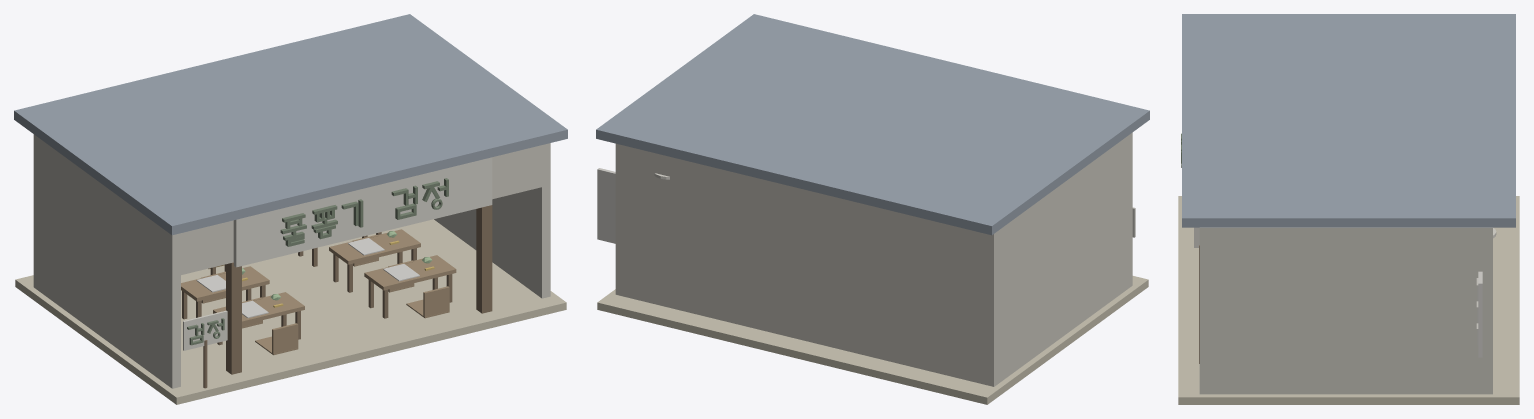
File: exam.glb
The picture shows the model from 3 angles, left to right: view 1: azimuth 30°, elevation 25°; view 2: azimuth 150°, elevation 25°; view 3: azimuth 270°, elevation 25°; orthographic projection. The views are drawn at different scales.
Parts seen in each view (by area): view 1: part_03, part_09, part_07, part_13, part_05, part_01, part_00, part_14; view 2: part_09, part_03, part_07, part_12; view 3: part_03, part_09, part_07, part_12.
Boxes of the visible parts, <box> form: part_03: <box>14,14,567,235</box>; part_09: <box>33,134,550,388</box>; part_07: <box>15,219,566,404</box>; part_13: <box>183,157,492,350</box>; part_05: <box>181,229,456,355</box>; part_01: <box>182,205,492,388</box>; part_00: <box>187,178,448,345</box>; part_14: <box>196,238,419,318</box>; part_09: <box>615,132,1132,386</box>; part_03: <box>596,14,1149,235</box>; part_07: <box>597,276,1148,404</box>; part_12: <box>597,168,615,243</box>; part_03: <box>1182,14,1515,227</box>; part_09: <box>1199,227,1492,394</box>; part_07: <box>1178,196,1519,404</box>; part_12: <box>1478,271,1482,357</box>.
Bounding box in the file's own units: 14.1 × 5.85 × 9.6.
